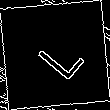L_NW: (26, 27, 84, 83)
